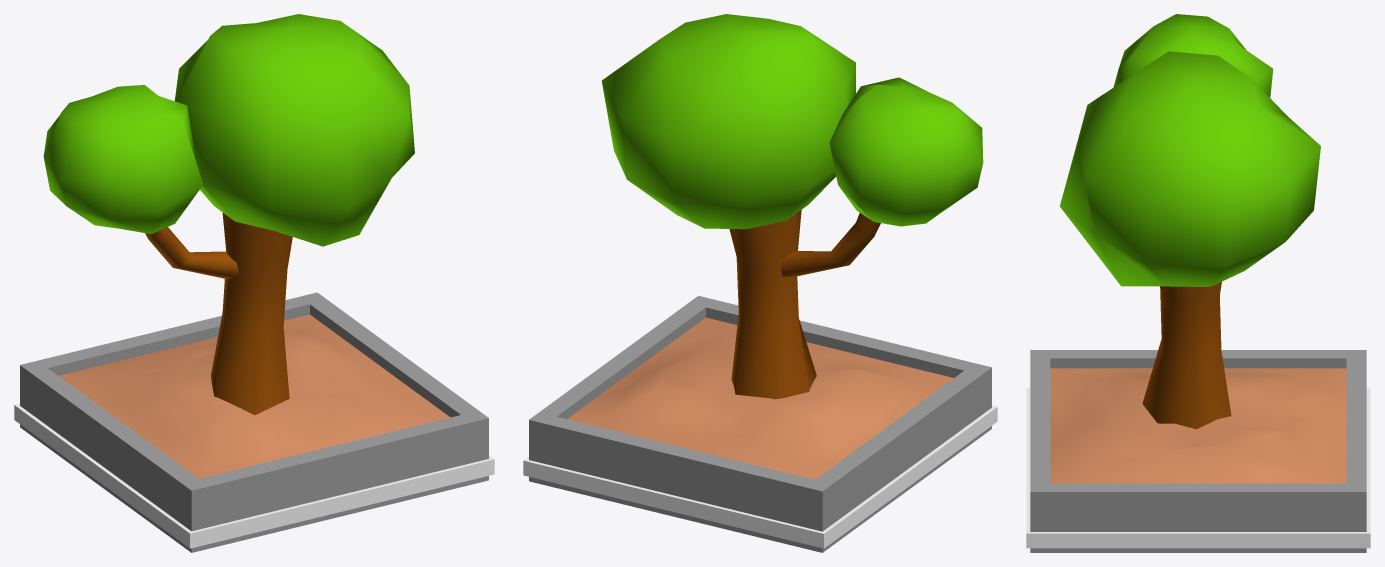
The model's file is SM_Tree_01.FBX.
The picture shows the model from 3 angles, left to right: view 1: azimuth 30°, elevation 25°; view 2: azimuth 150°, elevation 25°; view 3: azimuth 270°, elevation 25°; orthographic projection. The views are drawn at different scales.
Parts seen in each view (by area): view 1: SM_Tree_01; view 2: SM_Tree_01; view 3: SM_Tree_01.
Boxes of the visible parts, x1=… form: SM_Tree_01: x1=14, y1=14, x2=494, y2=552; SM_Tree_01: x1=523, y1=14, x2=997, y2=552; SM_Tree_01: x1=1026, y1=14, x2=1370, y2=552.
Size of the model in its own units: 2.43 by 2.71 by 2.05.
1 material, 1 textured.
